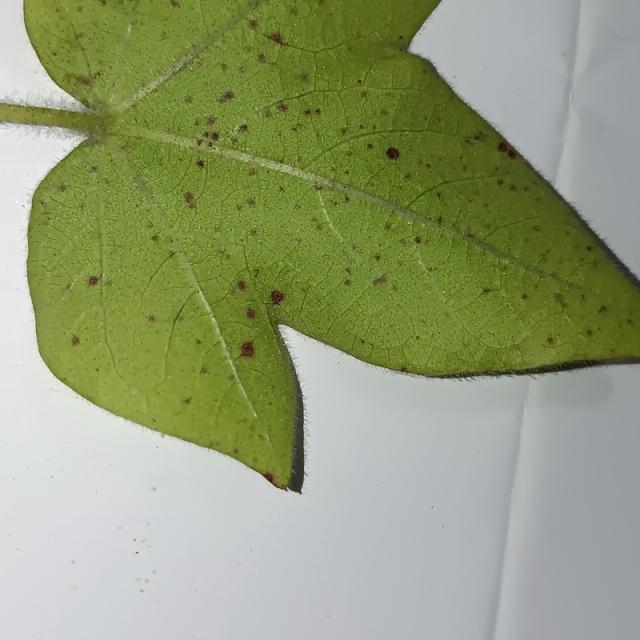Bacterial_Blight: (0, 0, 639, 491), (382, 143, 400, 166), (69, 72, 95, 87), (199, 129, 221, 145), (239, 341, 255, 359), (266, 474, 285, 489), (183, 191, 197, 209), (270, 289, 285, 305), (218, 90, 235, 104), (268, 31, 283, 44), (372, 275, 387, 287), (70, 333, 81, 347), (296, 71, 309, 82), (474, 131, 487, 142), (205, 115, 217, 126), (88, 275, 99, 286), (277, 102, 288, 113), (554, 293, 564, 305), (291, 122, 303, 132), (498, 142, 508, 153), (238, 123, 249, 133), (263, 472, 273, 482), (257, 53, 267, 63), (248, 19, 258, 29), (246, 197, 256, 207), (237, 280, 246, 291), (246, 308, 255, 319), (57, 184, 68, 193), (170, 0, 181, 9), (195, 159, 205, 168), (314, 183, 324, 192), (598, 305, 608, 314), (252, 268, 261, 278), (181, 396, 191, 405), (507, 150, 516, 159), (151, 234, 160, 243), (248, 168, 257, 177), (372, 253, 381, 262), (184, 95, 193, 104), (230, 136, 239, 145), (414, 236, 423, 244), (303, 108, 312, 116), (263, 109, 271, 118), (404, 172, 412, 181), (220, 62, 228, 71), (90, 165, 99, 173), (315, 223, 324, 231), (200, 366, 209, 374), (148, 315, 156, 323), (360, 91, 368, 99), (626, 318, 634, 326), (105, 279, 113, 287), (466, 233, 475, 240), (482, 288, 491, 295), (314, 107, 321, 115), (546, 337, 554, 344), (366, 143, 374, 150), (196, 139, 204, 146), (586, 329, 594, 336), (340, 127, 348, 134), (344, 279, 352, 286), (385, 223, 392, 231), (250, 229, 258, 236), (65, 283, 72, 291), (497, 179, 504, 186), (229, 374, 236, 381), (509, 184, 516, 191), (345, 267, 352, 274), (533, 225, 541, 231), (344, 195, 350, 203), (399, 366, 407, 372), (522, 293, 528, 300), (586, 246, 593, 251), (357, 79, 363, 84), (398, 35, 404, 40)
